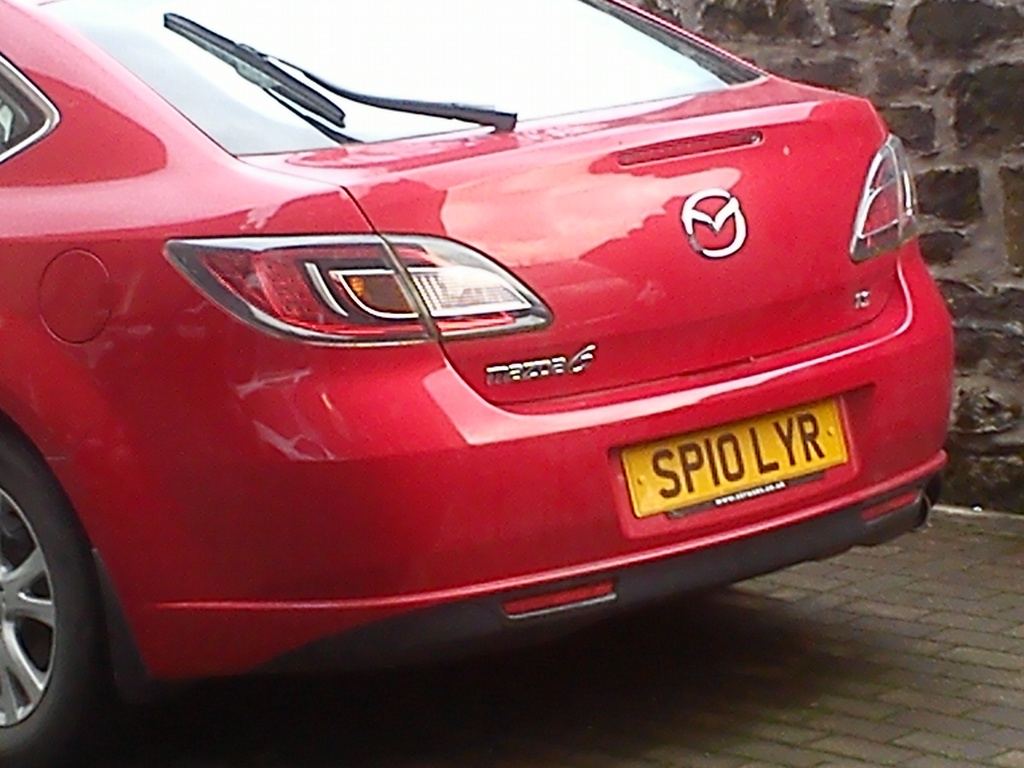license plate: (613, 444, 846, 517)
